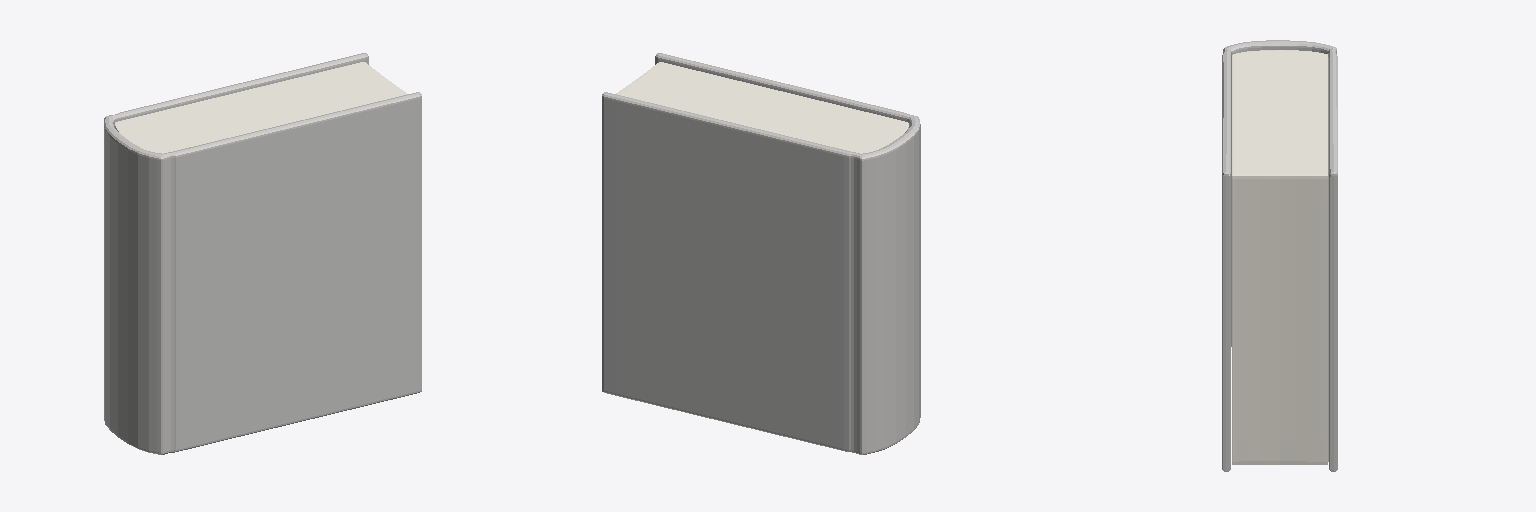
File: book4.obj
3 renders of one model, left to right at view 1: azimuth 30°, elevation 25°; view 2: azimuth 150°, elevation 25°; view 3: azimuth 270°, elevation 25°, orthographic.
Parts seen in each view (by area): view 1: book4.obj; view 2: book4.obj; view 3: book4.obj.
Part boxes in pixels (x1,y1,x2,y2): book4.obj: (104,53,421,454); book4.obj: (602,53,920,454); book4.obj: (1222,40,1337,471).
Size of the model in its own units: 0.2168 by 0.2248 by 0.0792.